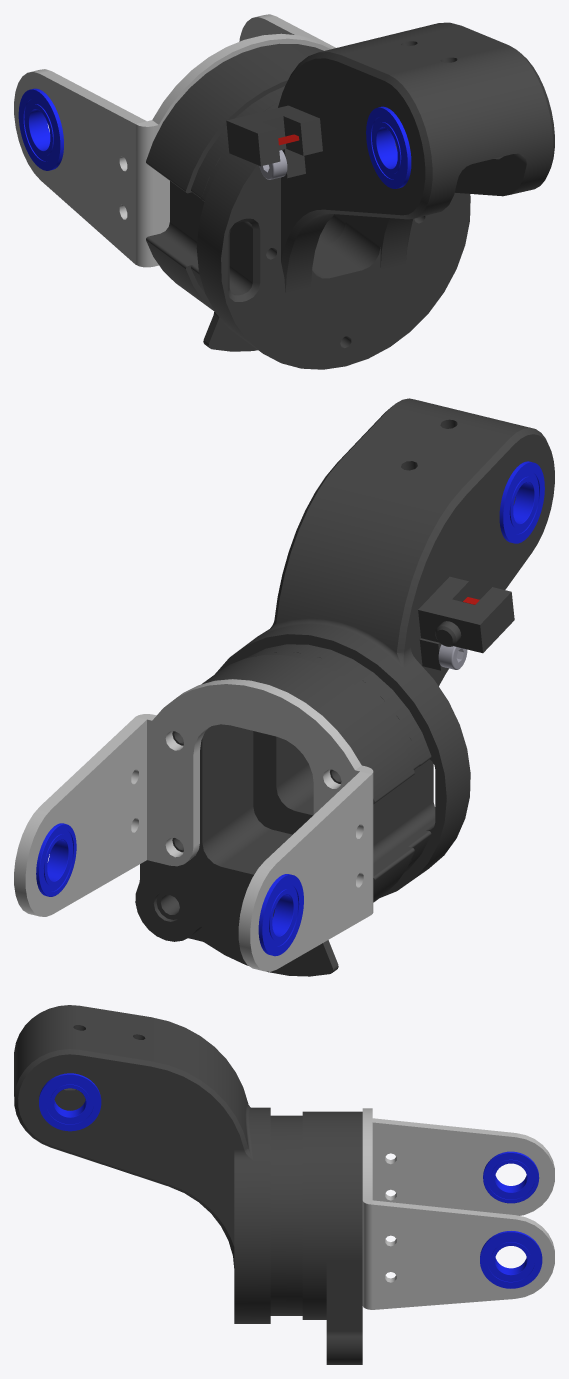
The model's file is RARM_LINK1_mesh.dae.
The picture shows the model from 3 angles, top to bottom: view 1: azimuth 30°, elevation 25°; view 2: azimuth 150°, elevation 25°; view 3: azimuth 270°, elevation 25°; orthographic projection. The views are drawn at different scales.
Visible parts, largest first — view 1: サーフェス1, サーフェス1_ncl1_2, サーフェス1_ncl1_1, サーフェス1_ncl1_5, サーフェス1_ncl1_7, サーフェス1_ncl1_4, サーフェス1_ncl1_12; view 2: サーフェス1, サーフェス1_ncl1_2, サーフェス1_ncl1_1, サーフェス1_ncl1_5, サーフェス1_ncl1_7, サーフェス1_ncl1_4, サーフェス1_ncl1_3; view 3: サーフェス1, サーフェス1_ncl1_2, サーフェス1_ncl1_1, サーフェス1_ncl1_6, サーフェス1_ncl1_3, サーフェス1_ncl1_4.
Part boxes in pixels (x1,y1,x2,y2): サーフェス1: (196, 22, 554, 369); サーフェス1_ncl1_2: (14, 14, 335, 267); サーフェス1_ncl1_1: (146, 43, 345, 351); サーフェス1_ncl1_5: (226, 105, 322, 178); サーフェス1_ncl1_7: (366, 106, 411, 188); サーフェス1_ncl1_4: (18, 88, 63, 170); サーフェス1_ncl1_12: (259, 150, 287, 179); サーフェス1: (215, 398, 554, 897); サーフェス1_ncl1_2: (14, 679, 373, 971); サーフェス1_ncl1_1: (135, 651, 420, 976); サーフェス1_ncl1_5: (418, 576, 514, 670); サーフェス1_ncl1_7: (499, 461, 544, 543); サーフェス1_ncl1_4: (258, 874, 303, 956); サーフェス1_ncl1_3: (36, 823, 76, 896); サーフェス1: (14, 1005, 286, 1323); サーフェス1_ncl1_2: (362, 1108, 554, 1309); サーフェス1_ncl1_1: (286, 1111, 362, 1364); サーフェス1_ncl1_6: (39, 1073, 101, 1131); サーフェス1_ncl1_3: (480, 1231, 542, 1288); サーフェス1_ncl1_4: (483, 1151, 539, 1203).
Size of the model in its own units: 0.0544 by 0.1349 by 0.086.
